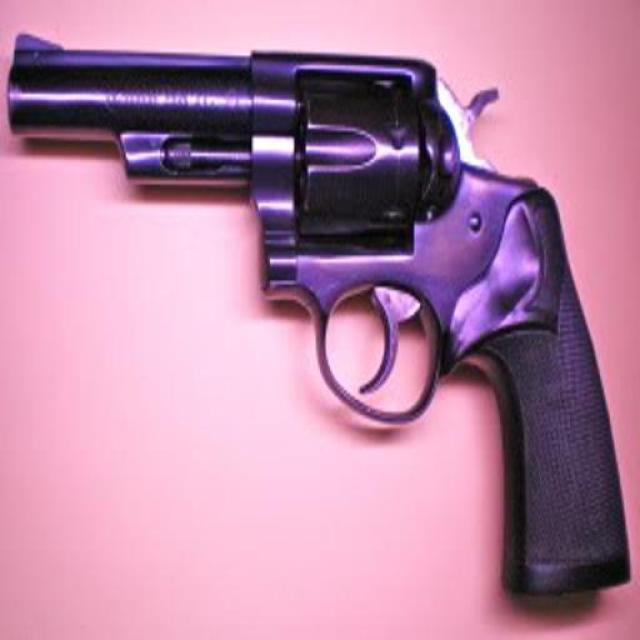pistol: (10, 27, 631, 590)
